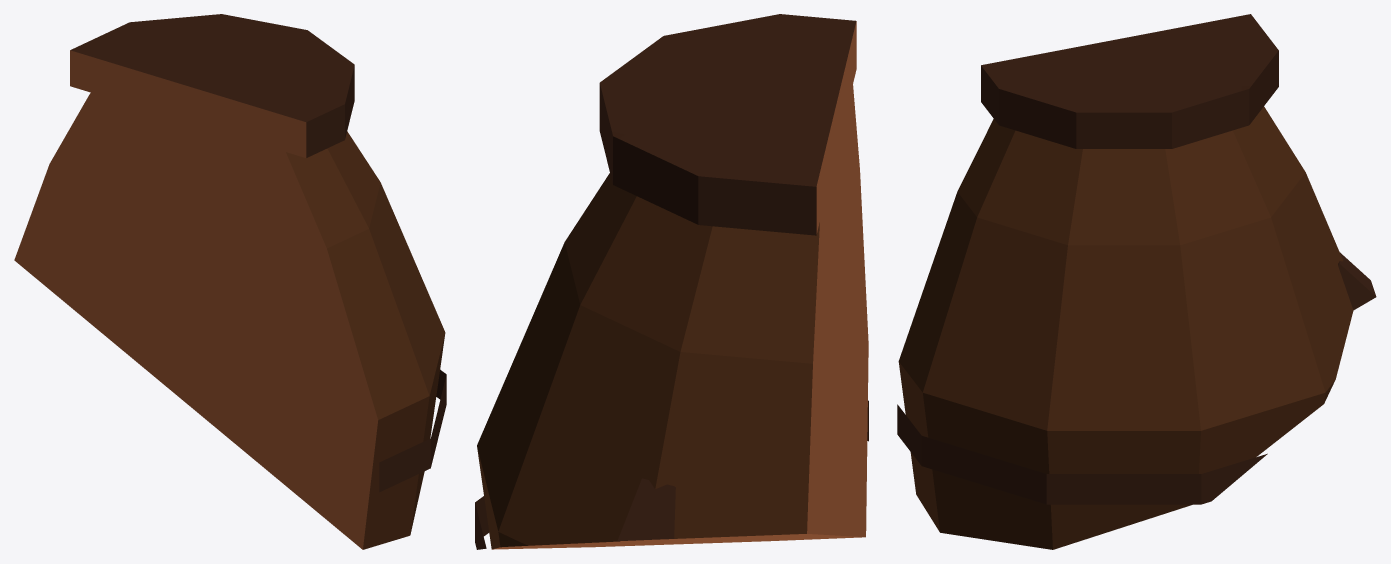
File: jar_01_shard_0.glb
3 renders of one model, left to right at view 1: azimuth 30°, elevation 25°; view 2: azimuth 150°, elevation 25°; view 3: azimuth 270°, elevation 25°, orthographic. The views are drawn at different scales.
Visible parts, largest first — view 1: jar_01_shard_0; view 2: jar_01_shard_0; view 3: jar_01_shard_0.
Part boxes in pixels (bbox=[...]): jar_01_shard_0: bbox=[14, 14, 446, 549]; jar_01_shard_0: bbox=[475, 14, 868, 549]; jar_01_shard_0: bbox=[897, 14, 1376, 549].
Size of the model in its own units: 0.5244 by 0.6986 by 0.7121.
3 materials, 2 textured.
